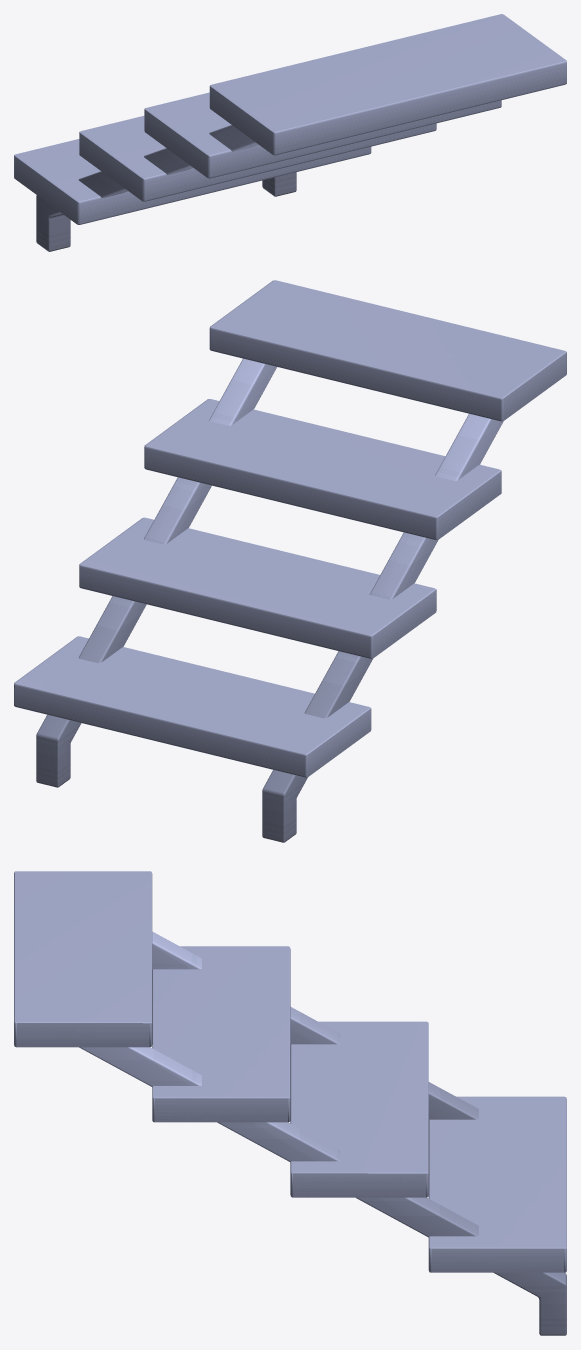
File: stairs-open-short.glb
The picture shows the model from 3 angles, top to bottom: view 1: azimuth 30°, elevation 25°; view 2: azimuth 150°, elevation 25°; view 3: azimuth 270°, elevation 25°; orthographic projection. The views are drawn at different scales.
Visible parts, largest first — view 1: stairs-open-short; view 2: stairs-open-short; view 3: stairs-open-short.
Boxes of the visible parts, x1,y1,x2,y2 form: stairs-open-short: (14, 14, 566, 251); stairs-open-short: (14, 280, 566, 842); stairs-open-short: (14, 871, 566, 1335).
Bounding box in the file's own units: 1.3 × 1.3 × 2.
1 material, 1 textured.
